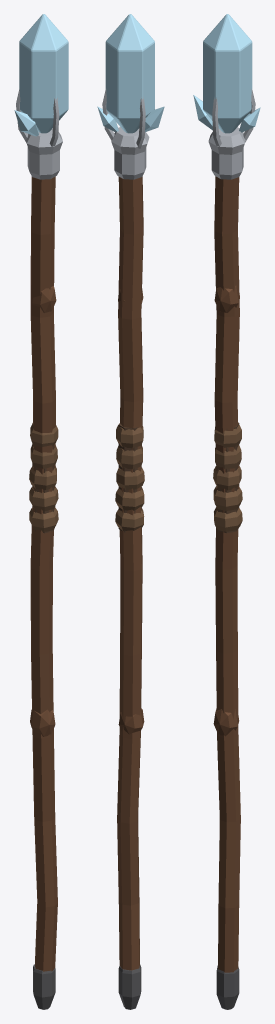
Rendered from staff_frost.glb.
3 renders of one model, left to right at view 1: azimuth 30°, elevation 25°; view 2: azimuth 150°, elevation 25°; view 3: azimuth 330°, elevation 25°, orthographic.
Visible parts, largest first — view 1: staff_frost; view 2: staff_frost; view 3: staff_frost.
Boxes of the visible parts, x1=… form: staff_frost: x1=14, y1=14, x2=68, y2=1009; staff_frost: x1=97, y1=14, x2=164, y2=1009; staff_frost: x1=193, y1=14, x2=260, y2=1009.
Size of the model in its own units: 0.1033 by 1.72 by 0.0822.
